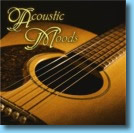guitar: (1, 20, 126, 126)
